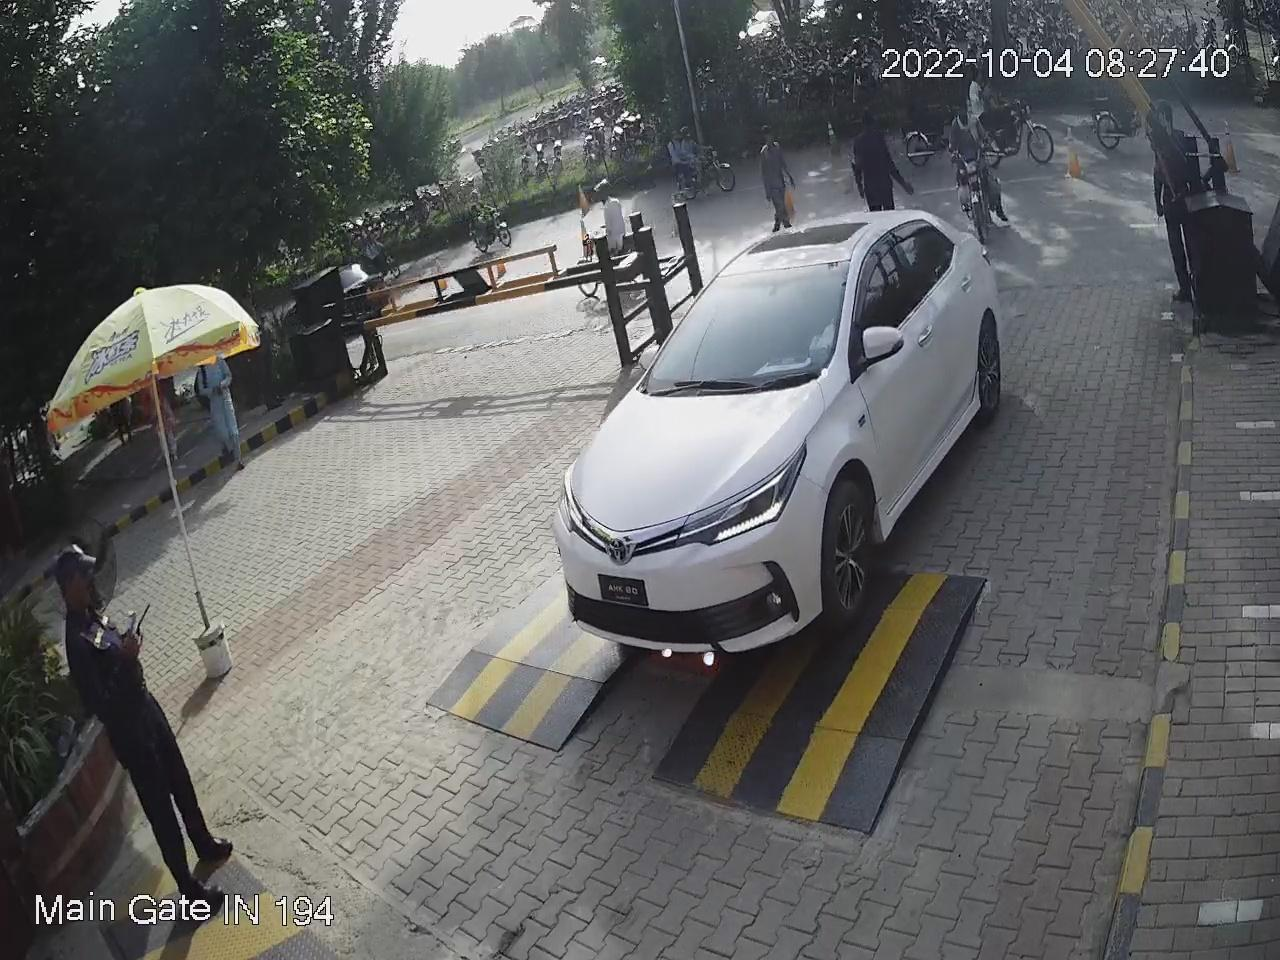windshield: (633, 257, 856, 392)
